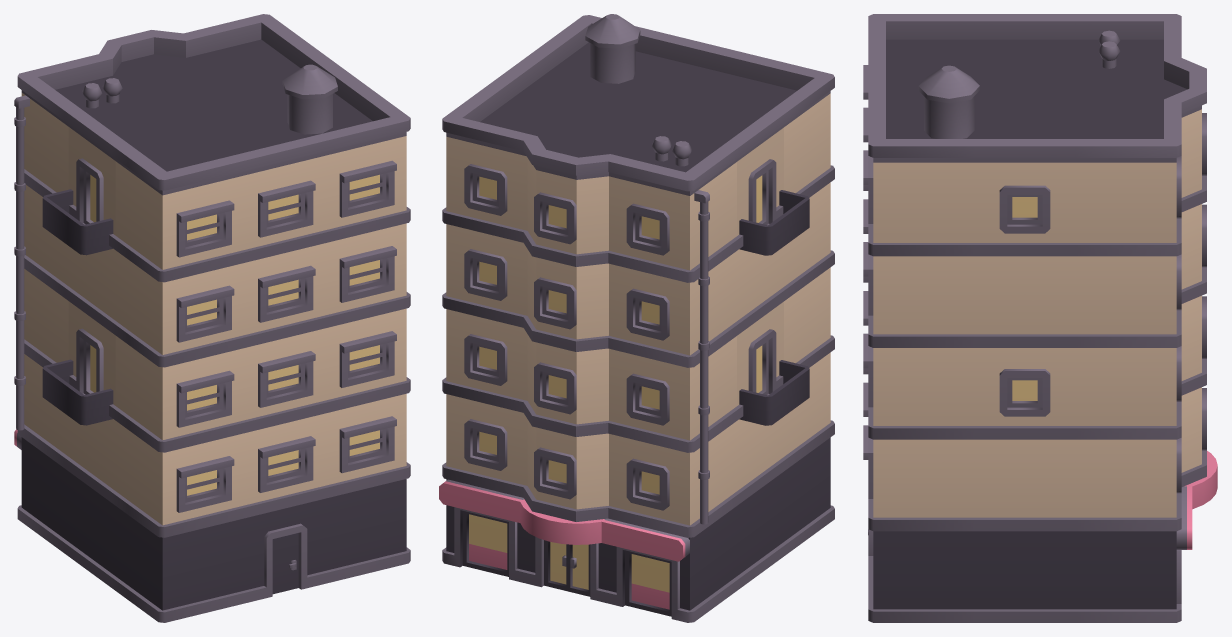
The model's file is building-l.glb.
The picture shows the model from 3 angles, left to right: view 1: azimuth 30°, elevation 25°; view 2: azimuth 150°, elevation 25°; view 3: azimuth 270°, elevation 25°; orthographic projection. The views are drawn at different scales.
Parts seen in each view (by area): view 1: building-l; view 2: building-l; view 3: building-l.
Boxes of the visible parts, x1,y1,x2,y2 form: building-l: [14, 14, 410, 622]; building-l: [439, 14, 834, 622]; building-l: [863, 14, 1217, 622].
Size of the model in its own units: 1.37 by 2.27 by 1.4.
1 material, 1 textured.
